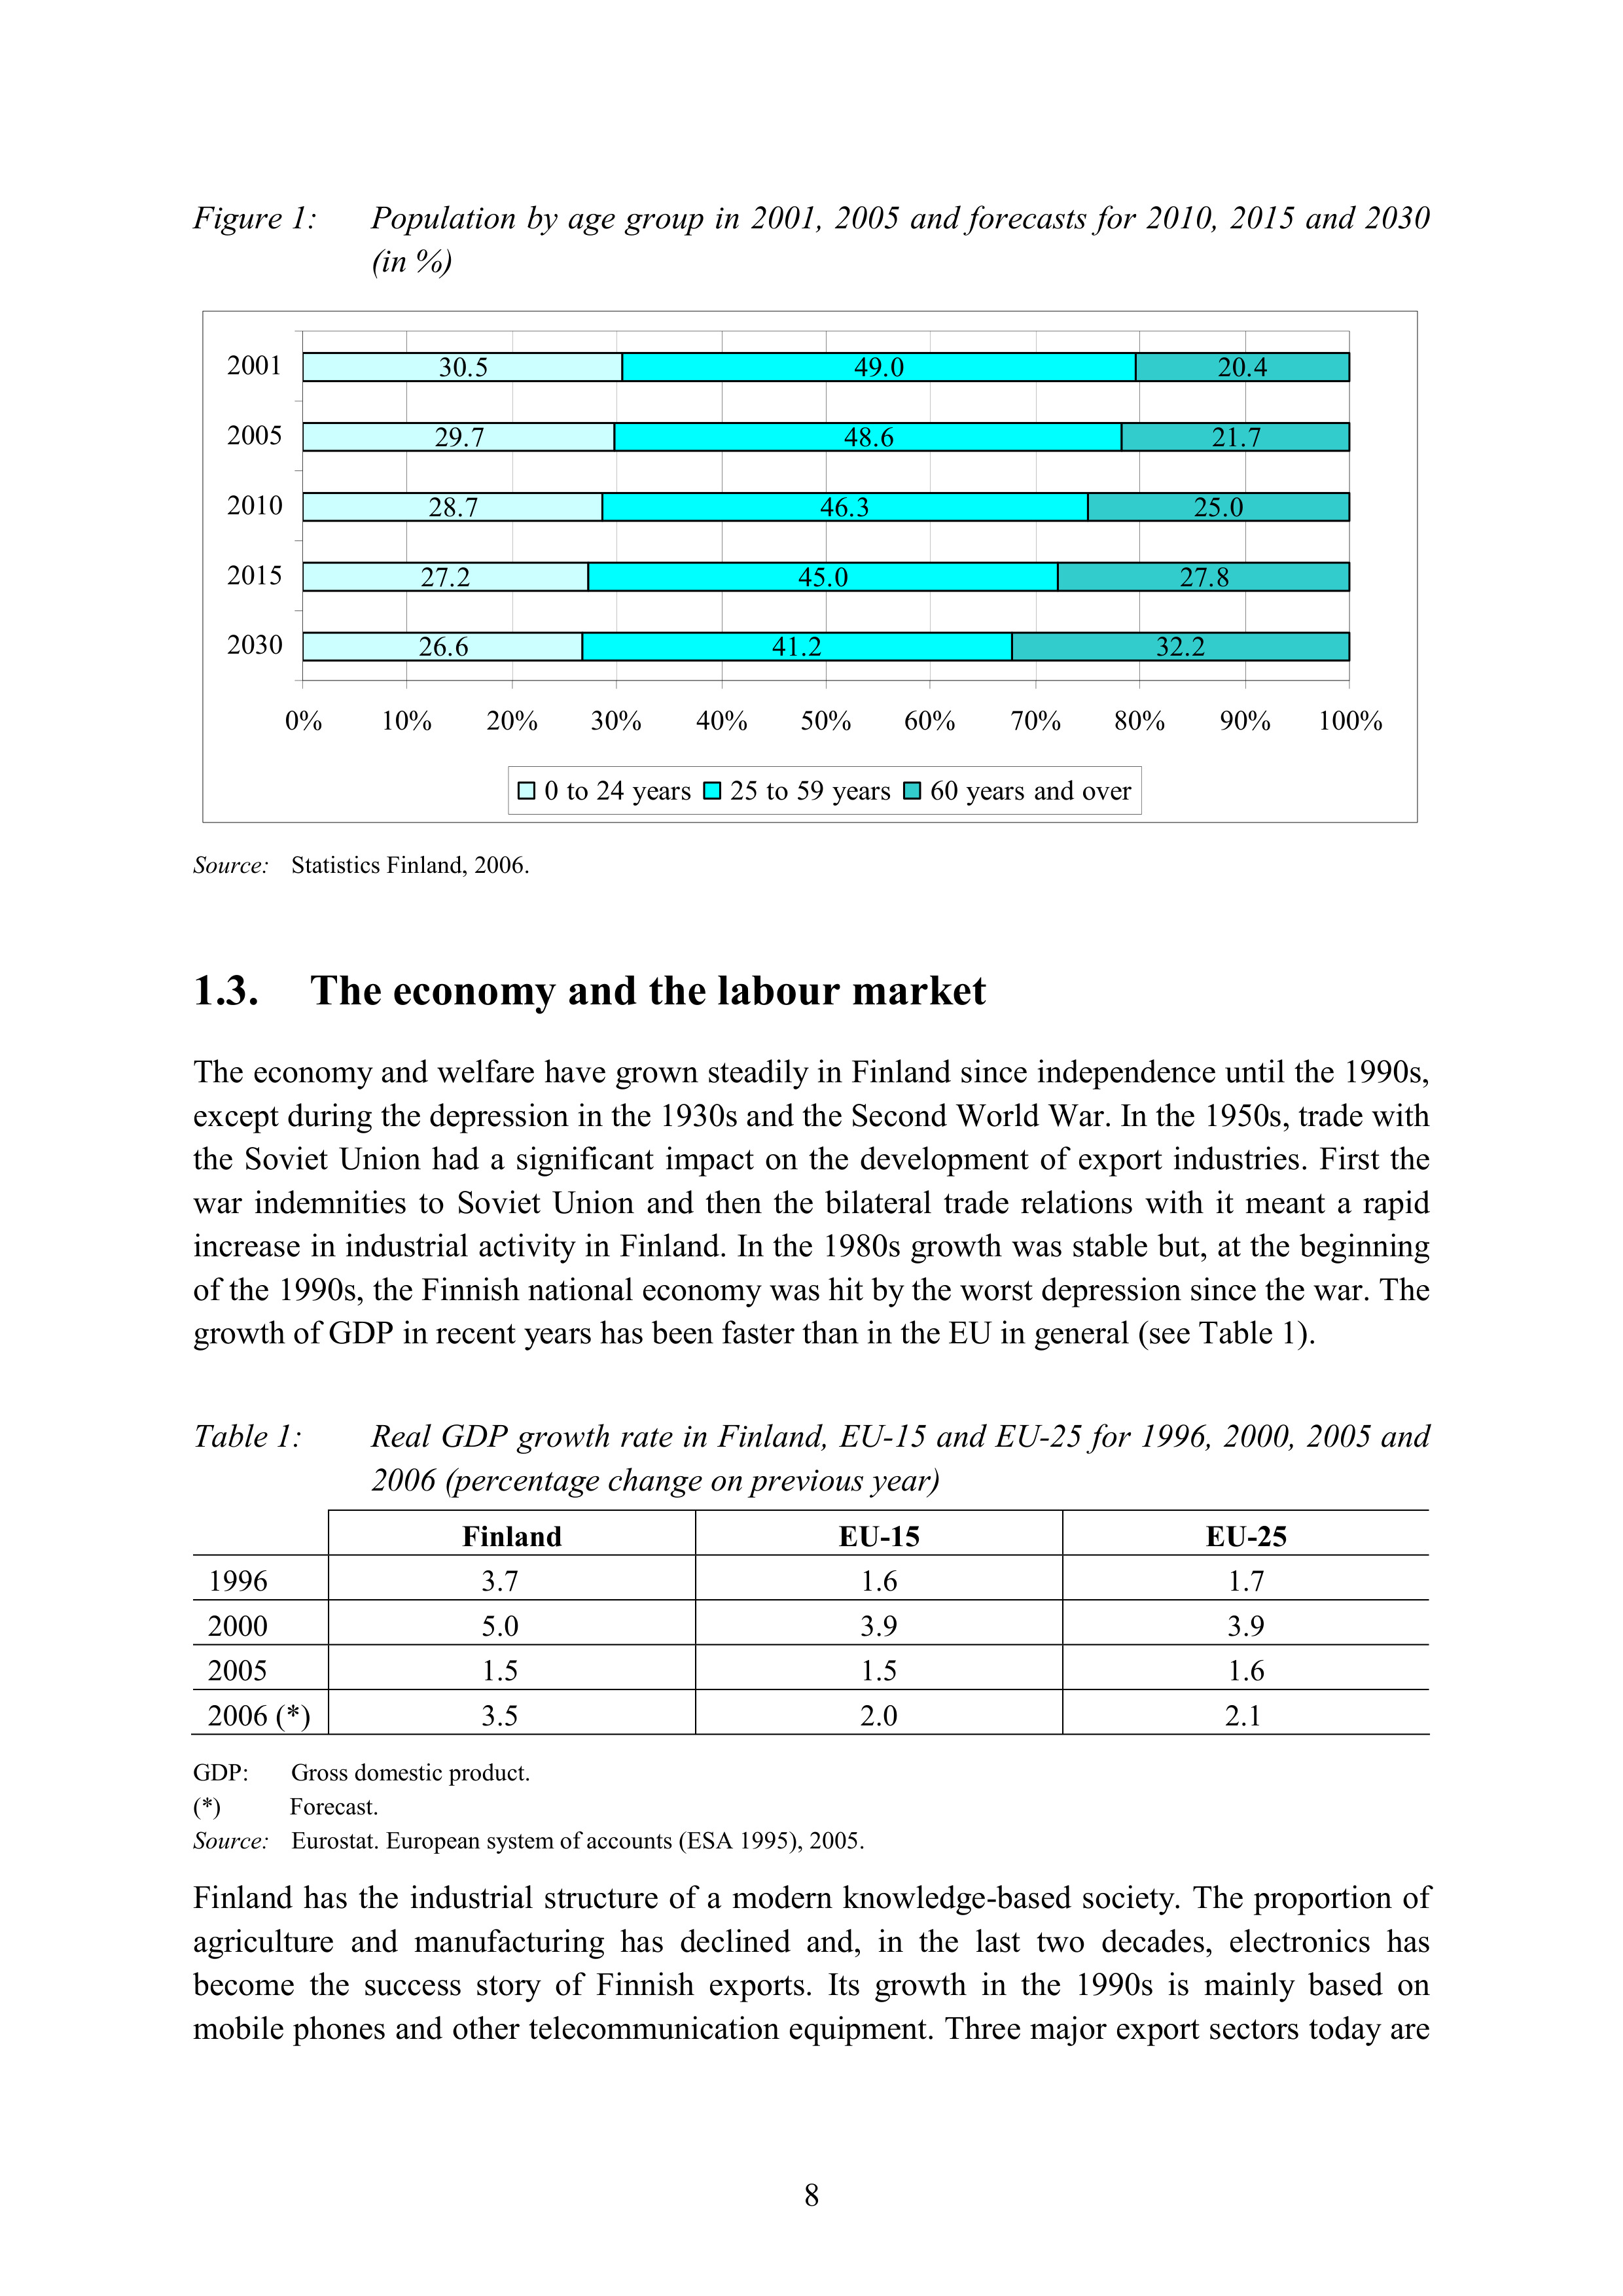table: (207, 1518, 1288, 1731)
